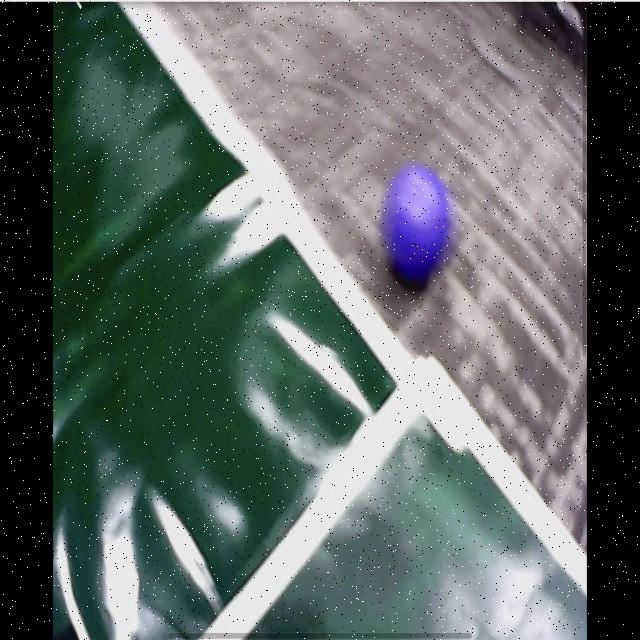ball: (385, 161, 448, 281)
